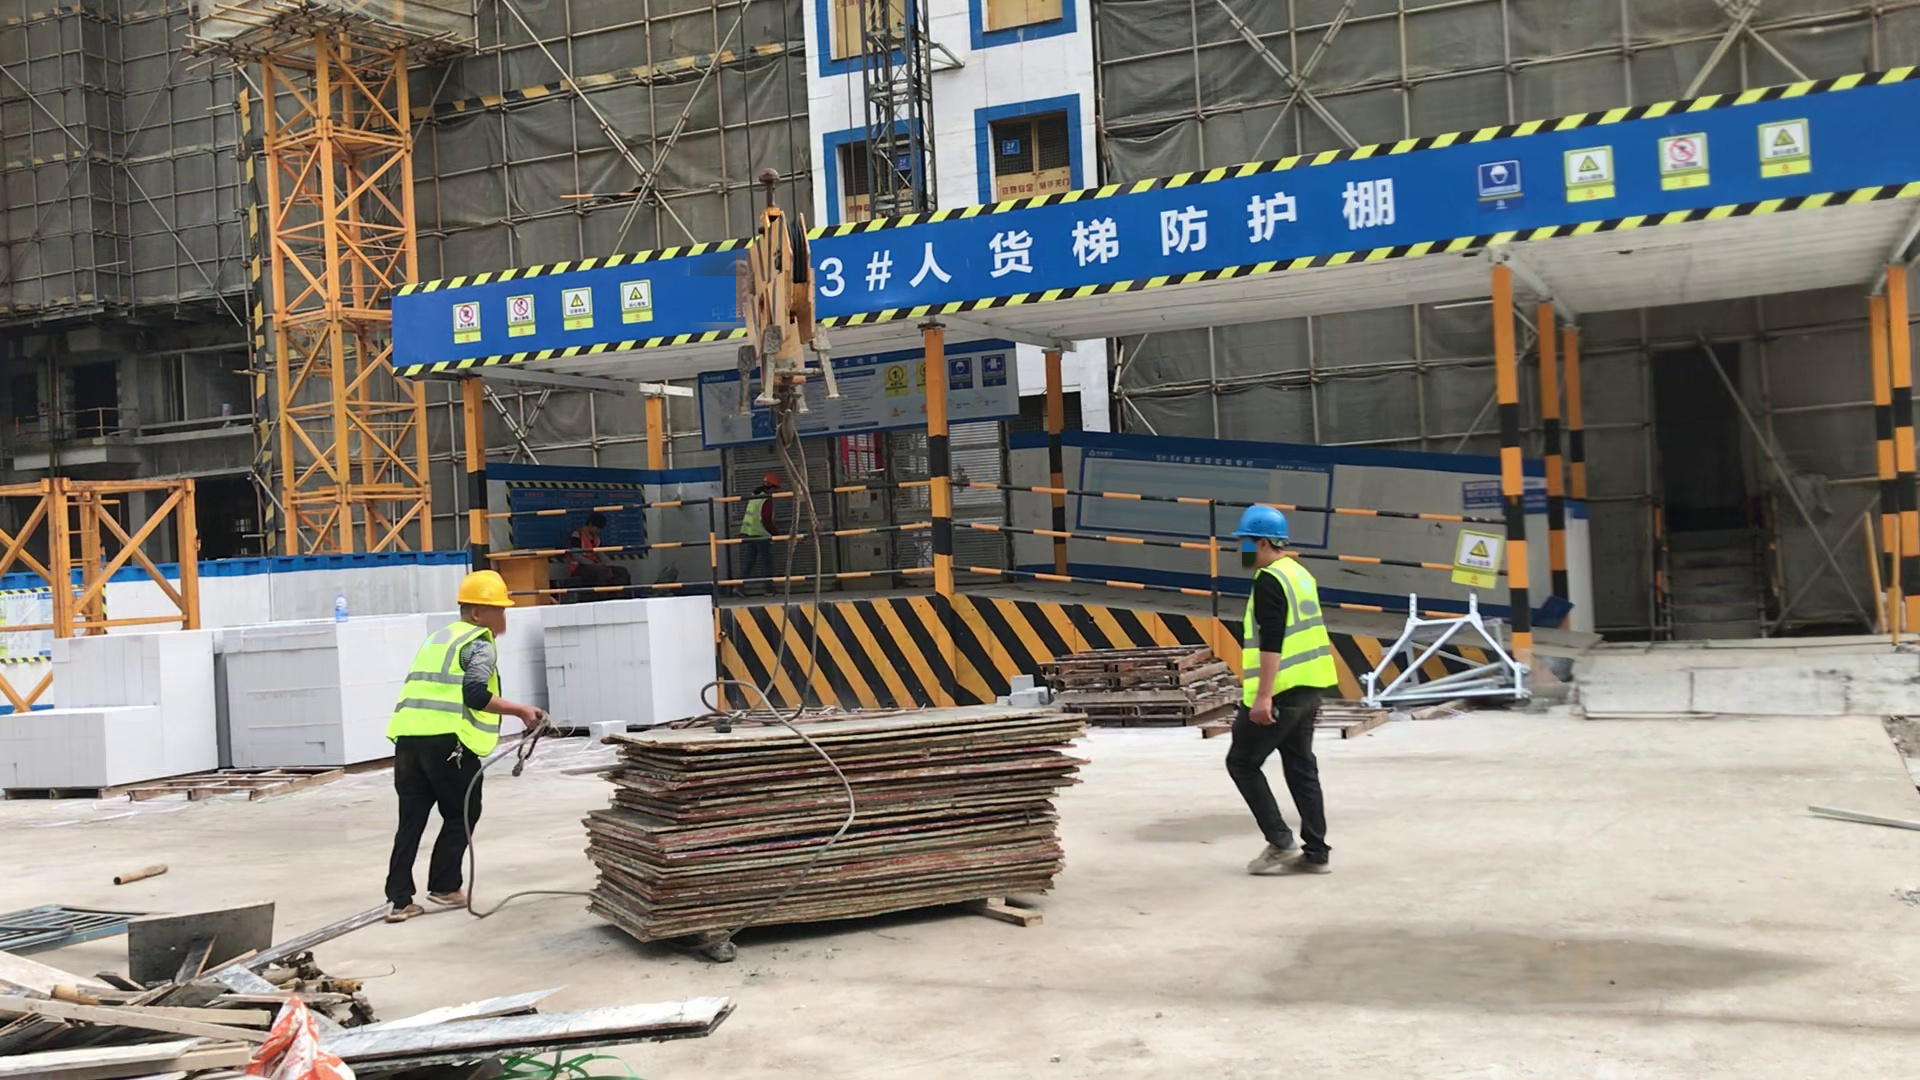board: (591, 705, 1094, 952)
brick: (1, 611, 422, 794), (510, 594, 715, 737)
ebox: (499, 548, 547, 600)
handcart: (1, 899, 165, 959)
helmet: (455, 567, 514, 607), (1233, 506, 1291, 543), (760, 471, 782, 489)
hook: (726, 162, 842, 466)
person: (382, 564, 513, 923), (1224, 501, 1340, 885), (737, 472, 780, 596), (567, 515, 635, 584)
slogan: (888, 176, 1402, 303), (1472, 117, 1816, 223), (445, 276, 654, 343), (1450, 527, 1507, 592)
vest: (390, 624, 499, 751), (1241, 566, 1339, 705), (740, 491, 775, 544), (571, 533, 602, 568)
